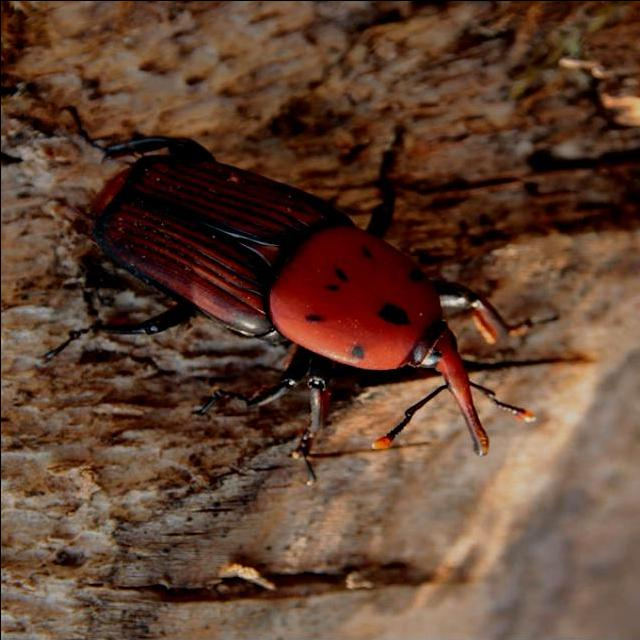Red-palm-weevil: (91, 148, 539, 456)
